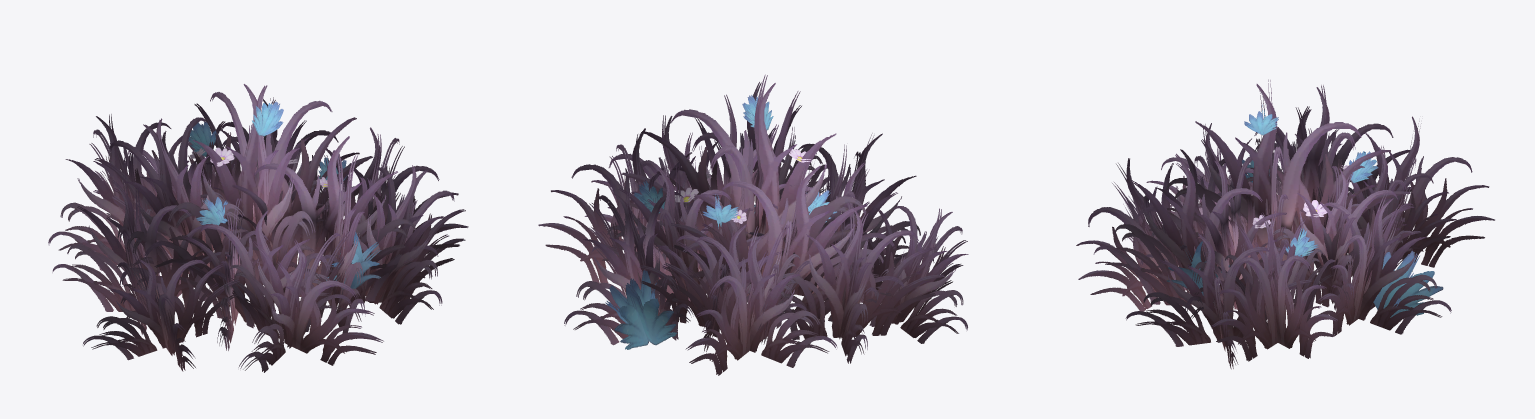
The model's file is SM_cao05_ZYF.fbx.
3 renders of one model, left to right at view 1: azimuth 30°, elevation 25°; view 2: azimuth 150°, elevation 25°; view 3: azimuth 270°, elevation 25°, orthographic. The views are drawn at different scales.
Visible parts, largest first — view 1: SM_cao05_ZYF.mo; view 2: SM_cao05_ZYF.mo; view 3: SM_cao05_ZYF.mo.
Part boxes in pixels (<box>): SM_cao05_ZYF.mo: <box>48,84,468,372</box>; SM_cao05_ZYF.mo: <box>538,74,968,375</box>; SM_cao05_ZYF.mo: <box>1076,79,1494,369</box>.
Size of the model in its own units: 4.57 by 2.6 by 4.57.
